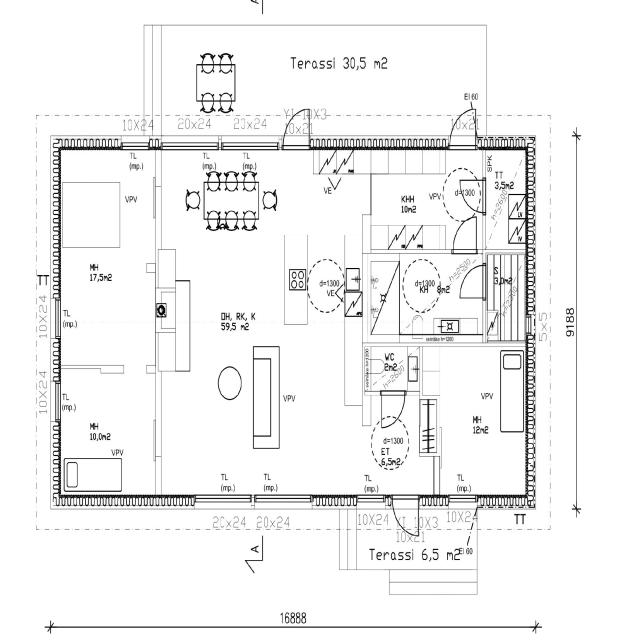door: (447, 106, 478, 150), (457, 260, 486, 302), (391, 494, 420, 535), (282, 108, 312, 147), (379, 389, 407, 429), (451, 215, 479, 252)
window: (219, 137, 281, 152), (161, 137, 221, 151), (50, 292, 64, 340), (50, 378, 63, 425), (356, 491, 388, 505), (120, 138, 150, 151)
zone: (158, 144, 364, 509), (57, 144, 158, 364), (409, 347, 528, 498), (56, 362, 155, 492), (364, 252, 486, 346), (484, 147, 527, 253), (365, 346, 411, 391)
